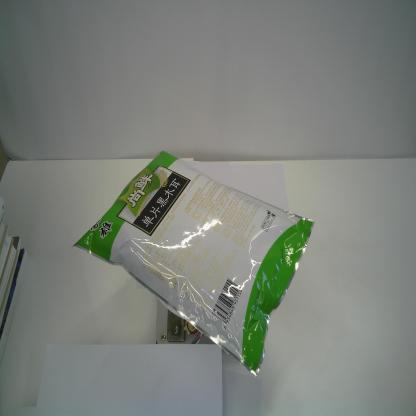Dried Food: (70, 148, 316, 378)
